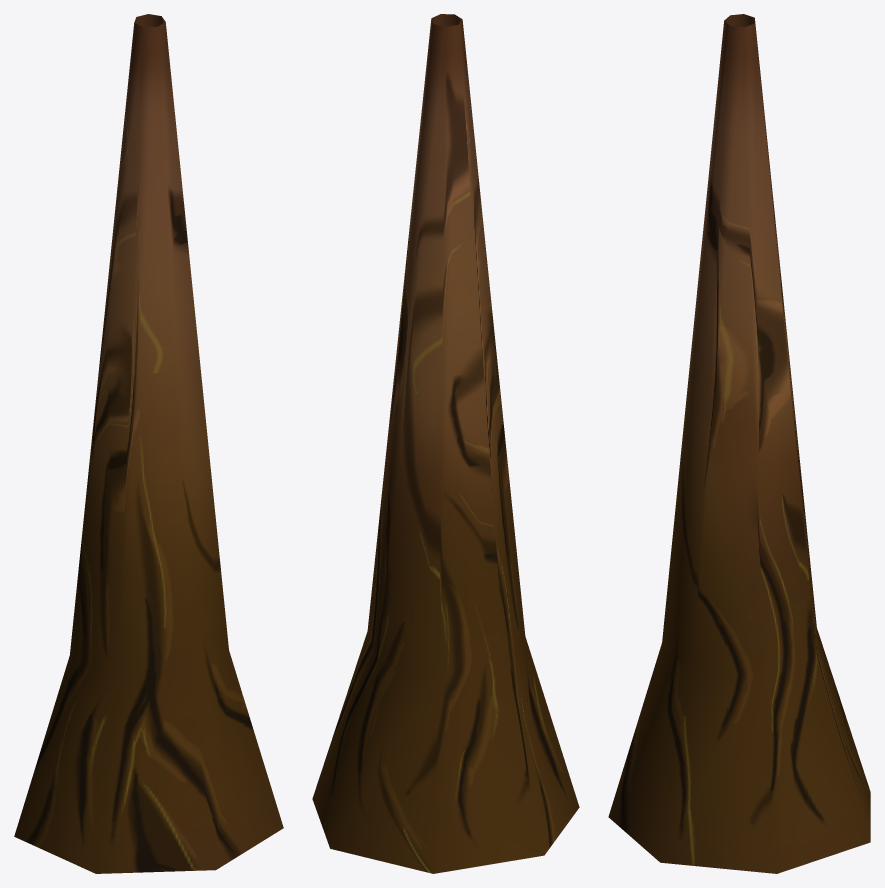
File: Tronco_2.fbx
The picture shows the model from 3 angles, left to right: view 1: azimuth 30°, elevation 25°; view 2: azimuth 150°, elevation 25°; view 3: azimuth 270°, elevation 25°; orthographic projection.
Visible parts, largest first — view 1: Tronco_2; view 2: Tronco_2; view 3: Tronco_2.
Part boxes in pixels (box(x1,y1,x2,y2)): Tronco_2: box(14, 14, 283, 873); Tronco_2: box(312, 14, 579, 873); Tronco_2: box(608, 14, 870, 873).
Bounding box in the file's own units: 452 × 1477 × 441.
